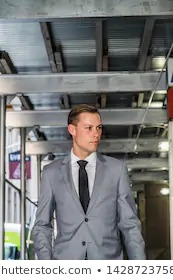F_M_suit jacket: (28, 149, 148, 259)
F_tie: (74, 156, 93, 211)
